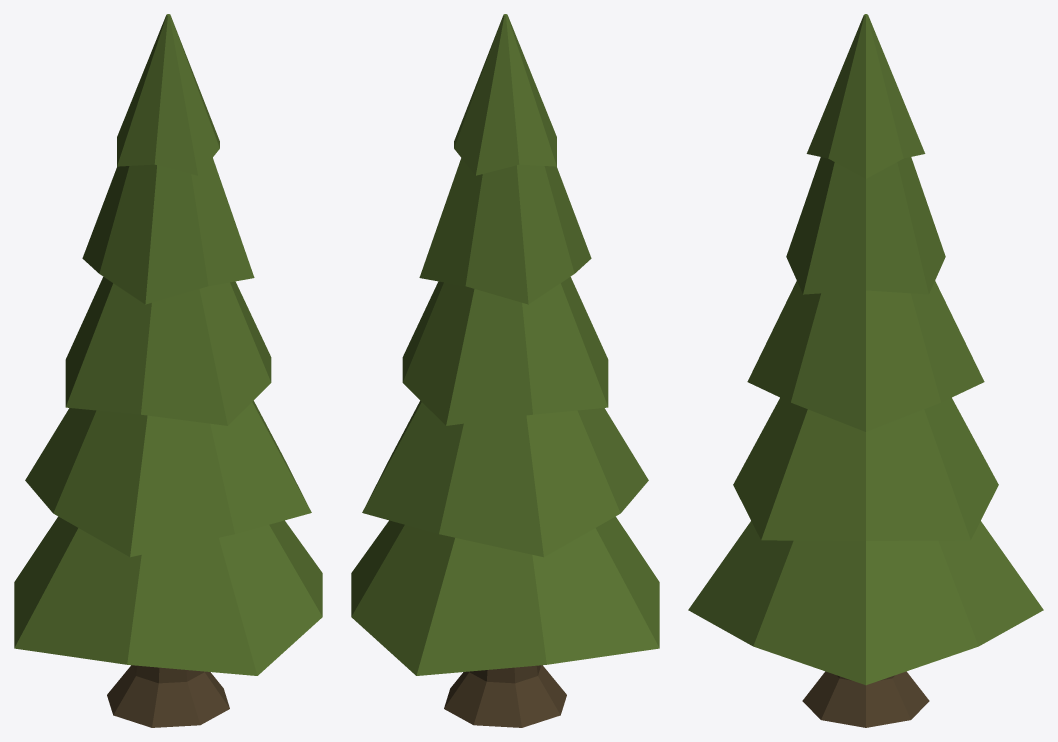
The model's file is tree2.fbx.
3 views of the same model, side by side, from view 1: azimuth 30°, elevation 25°; view 2: azimuth 150°, elevation 25°; view 3: azimuth 270°, elevation 25° (orthographic).
Parts seen in each view (by area): view 1: Pine-Tree; view 2: Pine-Tree; view 3: Pine-Tree.
Boxes of the visible parts, left/top/right/bottom form: Pine-Tree: left=14, top=14, right=322, bottom=727; Pine-Tree: left=351, top=14, right=659, bottom=727; Pine-Tree: left=688, top=14, right=1043, bottom=727.
Bounding box in the file's own units: 341 × 725 × 341.
